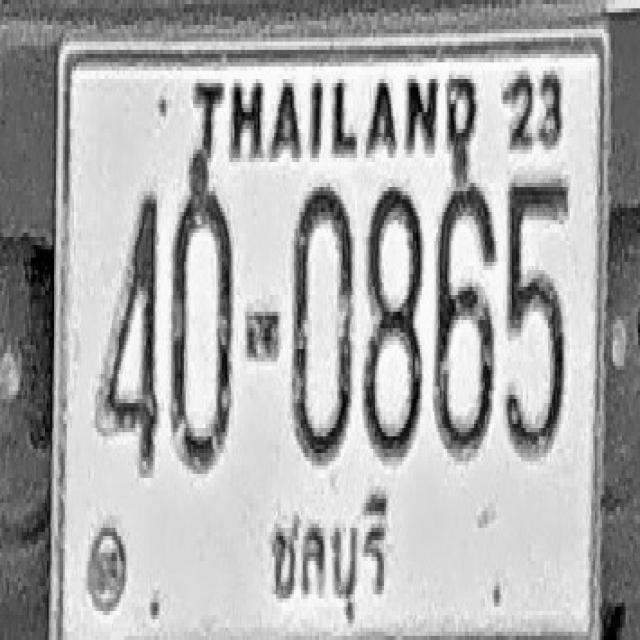0: (170, 178, 232, 470), (292, 183, 353, 465)
4: (97, 191, 159, 474)
5: (505, 175, 568, 457)
6: (433, 179, 495, 457)
8: (362, 183, 422, 461)
Chonburi: (260, 484, 392, 620)
